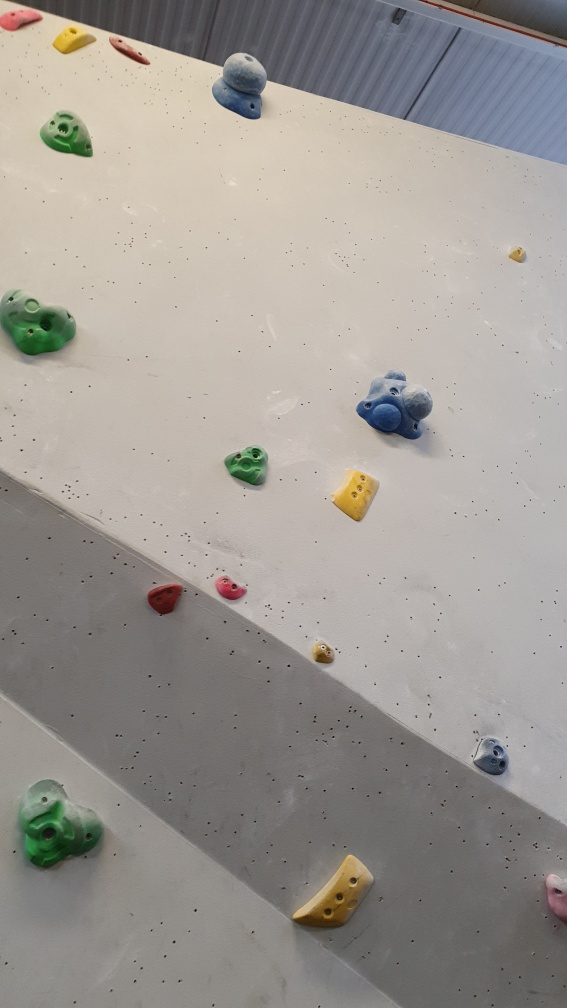Crimp: (284, 846, 380, 937), (327, 462, 383, 530), (109, 35, 155, 68)
Jug: (16, 775, 110, 875), (1, 287, 81, 369), (31, 103, 101, 162), (220, 439, 273, 488)
Pinch: (44, 14, 102, 61)
Sloper: (354, 359, 436, 445), (212, 44, 278, 128)
